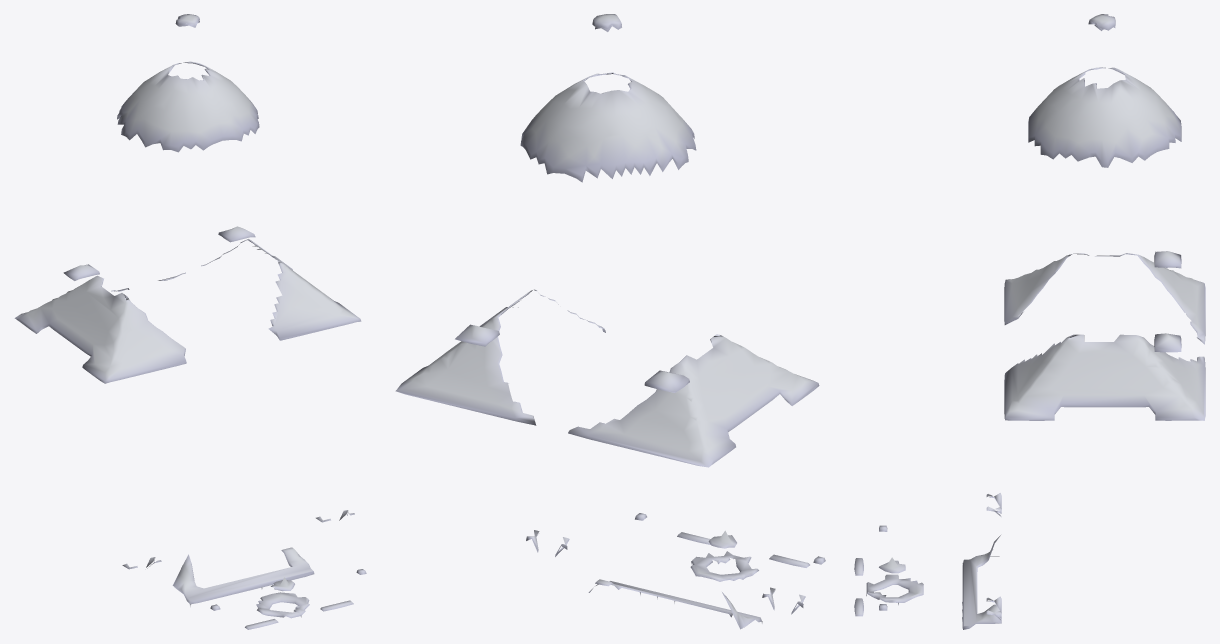
Rendered from category.nft.xl.snow.glb.
3 views of the same model, side by side, from view 1: azimuth 30°, elevation 25°; view 2: azimuth 150°, elevation 25°; view 3: azimuth 270°, elevation 25° (orthographic). The views are drawn at different scales.
Visible parts, largest first — view 1: snow, tier.4; view 2: snow, tier.4; view 3: snow, tier.4.
Part boxes in pixels (<box>): snow: <box>14,20,366,629</box>; tier.4: <box>63,226,255,280</box>; snow: <box>395,25,825,629</box>; tier.4: <box>455,324,689,392</box>; snow: <box>854,22,1205,629</box>; tier.4: <box>1154,251,1181,352</box>.
Bounding box in the file's own units: 12 × 23.68 × 12.89.
